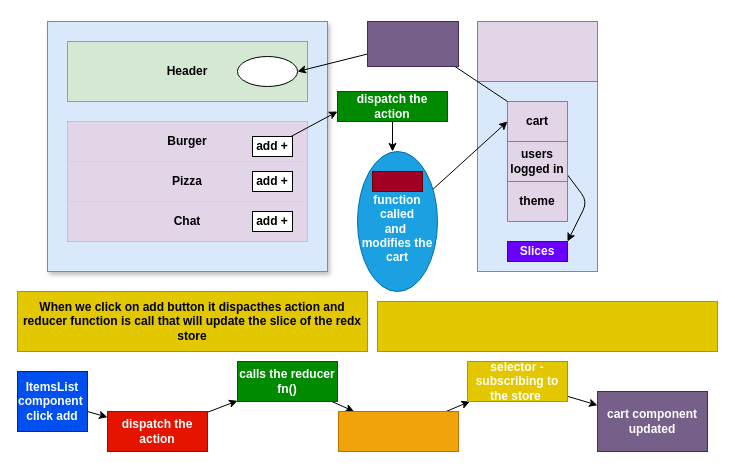
Some shapes in this 735 by 469 pixel diagram are drawn without their labels. Each missing label, with the centre of its shape:
"cart - 3" goes at [267,71].
"cart slice in the store gets updated" goes at [398,431].
"Now to read the cart data in the cart comopnent we use selector" goes at [547,326].
"reducer" goes at [397,181].
"selector Subcribing to the store" goes at [412,43].
"store" goes at [537,51].
